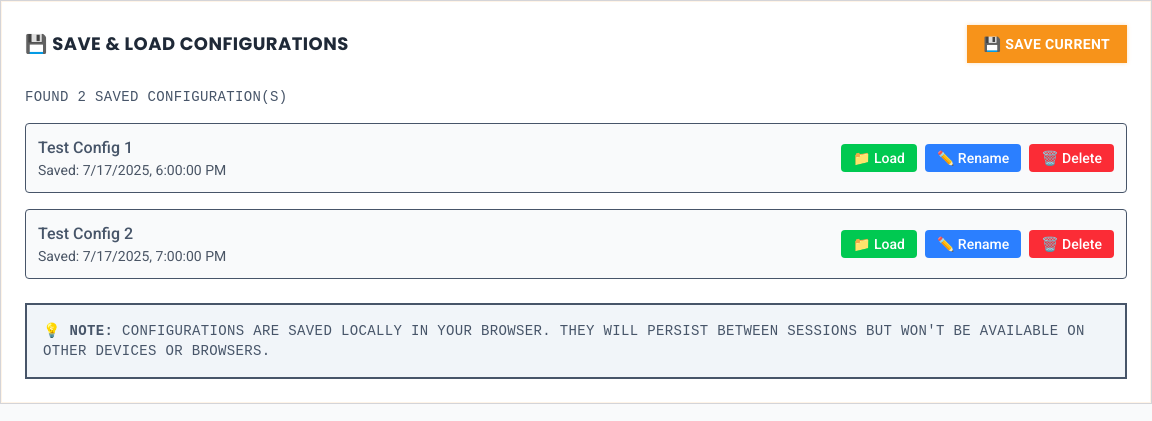
it: SaveLoadSection › should enter rename mode when rename button is clicked
The image size is (1152, 421).
What coordinates should you click on to do the following:
click the button "✏️ Rename" in the row of "7/17/2025, 6:00:00 PM"
I would click on:
 (973, 158)
Its box is [925,144,1021,172].
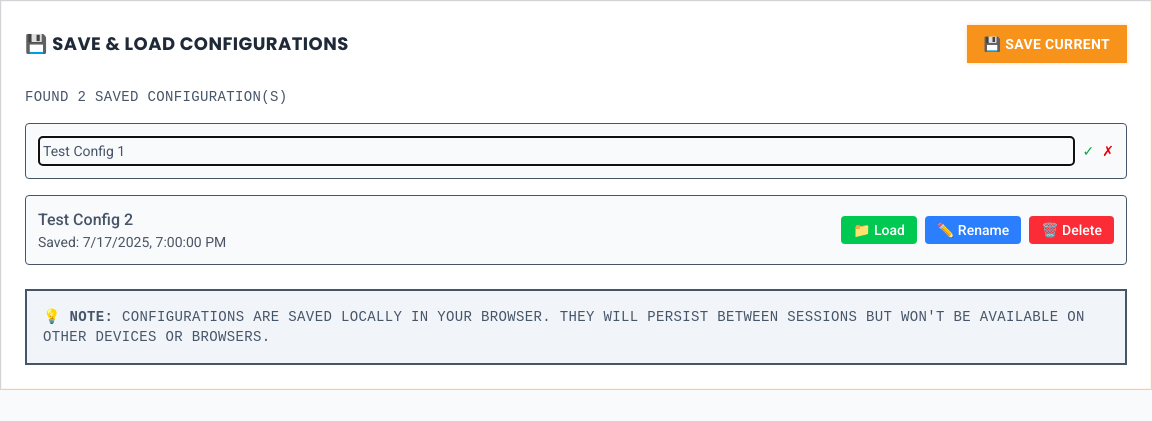
Check: the field showing "Test Config 1" is shown, box [38,136,1074,166]
